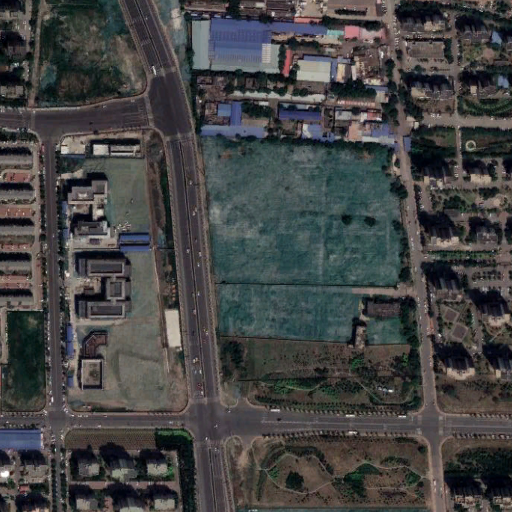cw: (198, 134, 417, 344)
